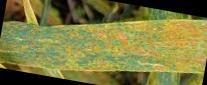Wheat: (16, 23, 206, 70)
